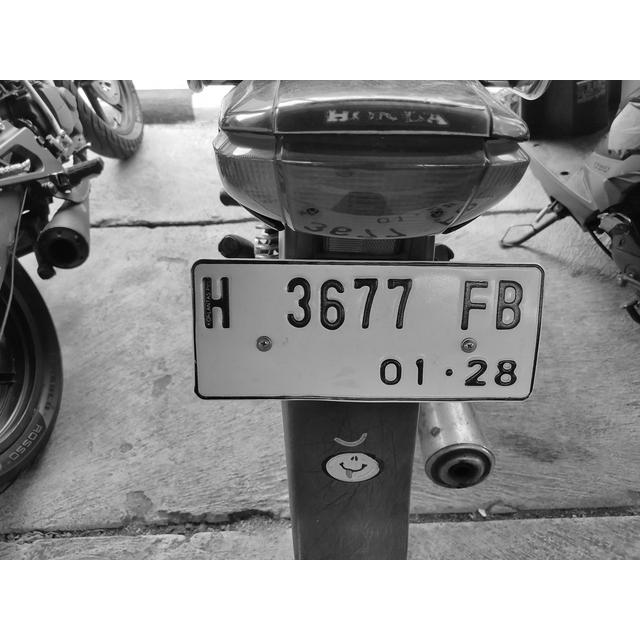license: (197, 269, 530, 393)
